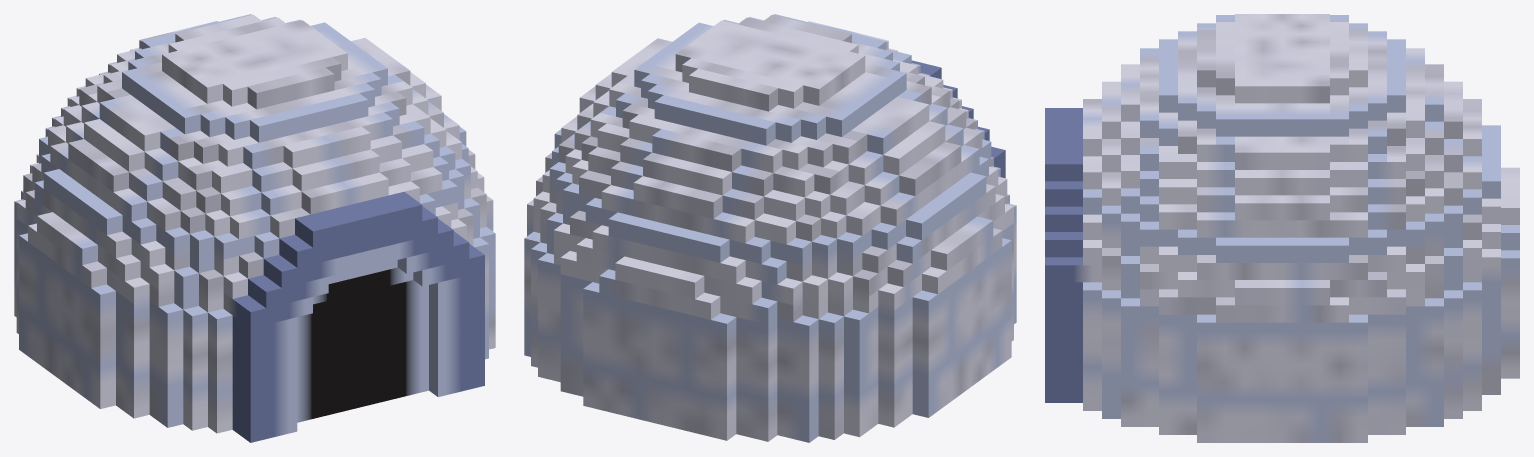
Rendered from Iglo_1.fbx.
3 views of the same model, side by side, from view 1: azimuth 30°, elevation 25°; view 2: azimuth 150°, elevation 25°; view 3: azimuth 270°, elevation 25° (orthographic). The views are drawn at different scales.
Parts seen in each view (by area): view 1: Iglo_1; view 2: Iglo_1; view 3: Iglo_1.
Boxes of the visible parts, bbox=[...] form: Iglo_1: bbox=[14, 14, 495, 442]; Iglo_1: bbox=[524, 14, 1016, 442]; Iglo_1: bbox=[1045, 14, 1519, 442].
Size of the model in its own units: 25 by 17 by 25.
Materials: 1 (1 with a texture image).
